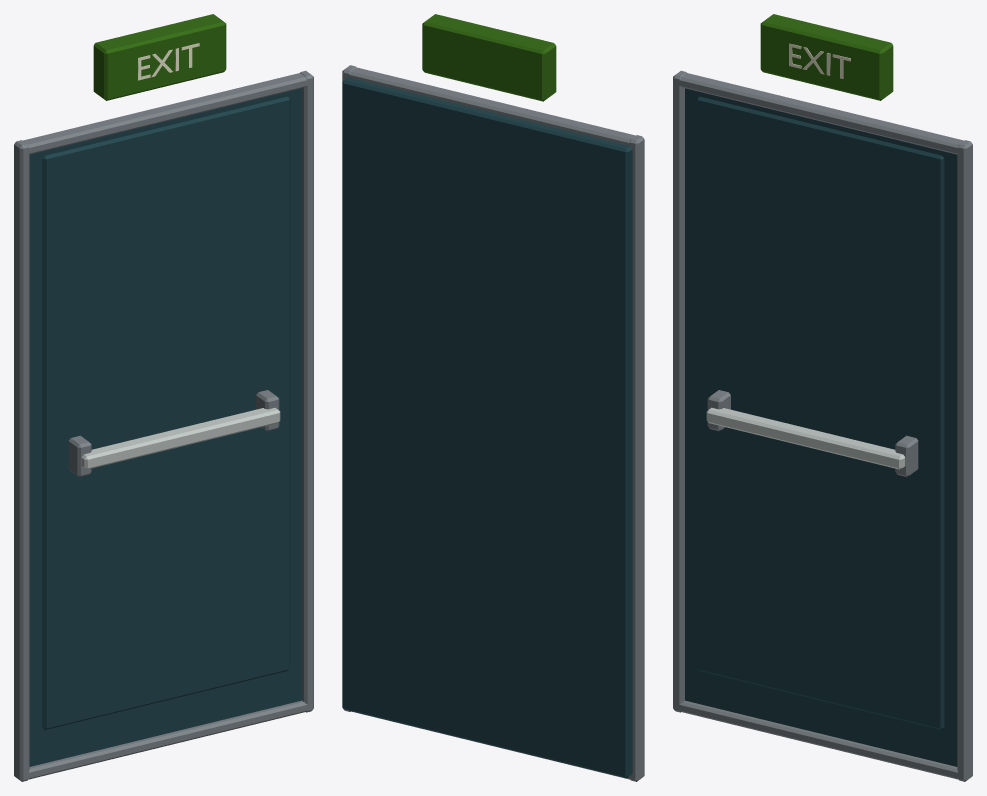
File: EmergencyExitDoor.fbx
3 renders of one model, left to right at view 1: azimuth 30°, elevation 25°; view 2: azimuth 150°, elevation 25°; view 3: azimuth 330°, elevation 25°, orthographic.
Visible parts, largest first — view 1: EmergencyExitDoor; view 2: EmergencyExitDoor; view 3: EmergencyExitDoor.
Boxes of the visible parts, x1,y1,x2,y2 form: EmergencyExitDoor: (14, 14, 313, 781); EmergencyExitDoor: (342, 14, 644, 781); EmergencyExitDoor: (673, 14, 972, 781).
Bounding box in the file's own units: 103 × 239 × 18.5.
1 material, 1 textured.
